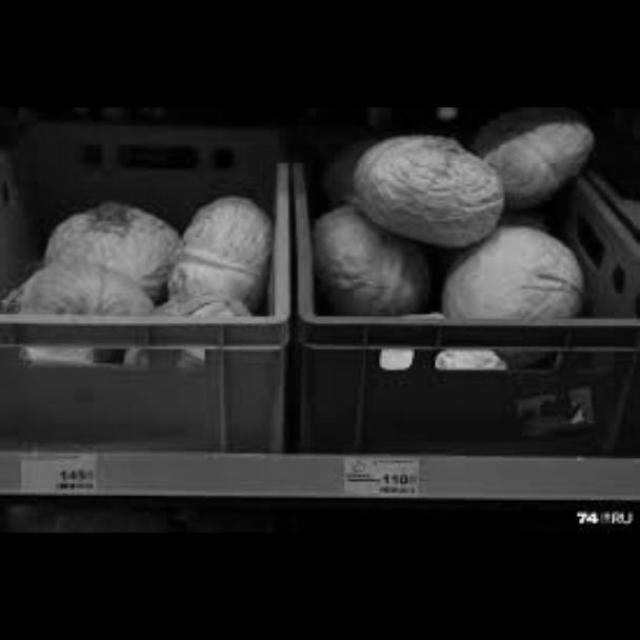cabbage: (314, 201, 451, 353), (360, 118, 500, 238), (448, 203, 568, 334), (34, 193, 191, 283), (5, 233, 159, 321), (171, 177, 275, 296)
